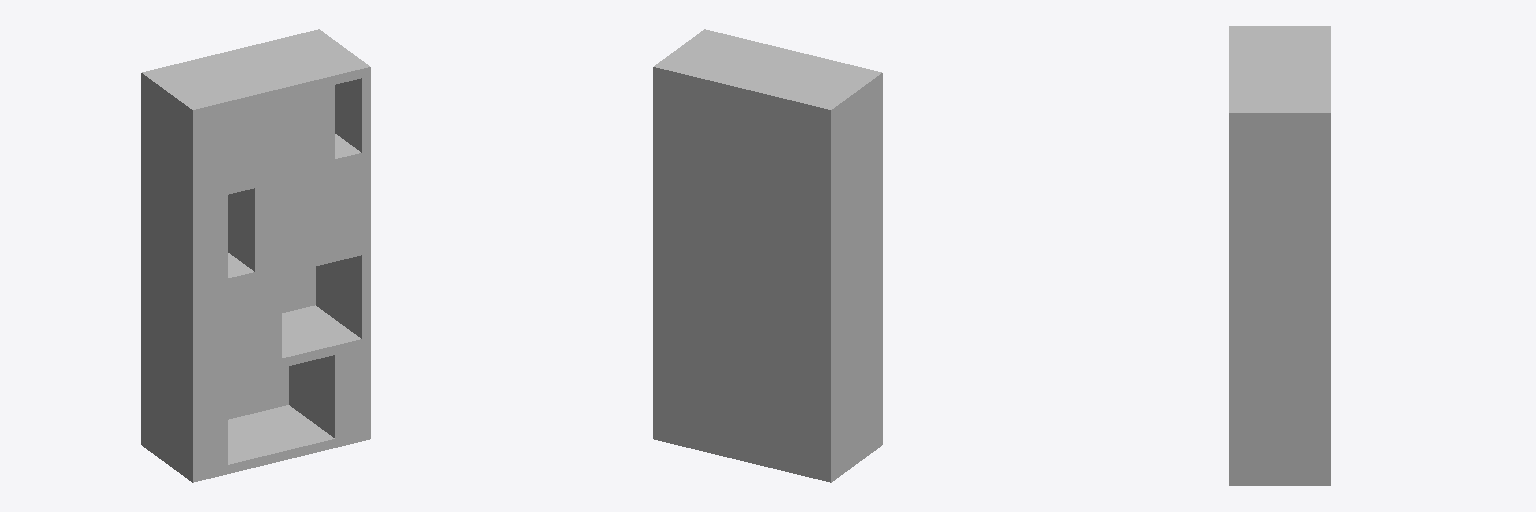
The model's file is bookcase2.obj.
3 renders of one model, left to right at view 1: azimuth 30°, elevation 25°; view 2: azimuth 150°, elevation 25°; view 3: azimuth 270°, elevation 25°, orthographic.
Parts seen in each view (by area): view 1: bookcase2; view 2: bookcase2; view 3: bookcase2.
Part boxes in pixels (x1,y1,x2,y2): bookcase2: (141, 29, 370, 482); bookcase2: (653, 29, 882, 482); bookcase2: (1229, 26, 1330, 485).
Bounding box in the file's own units: 20 × 40 × 10.